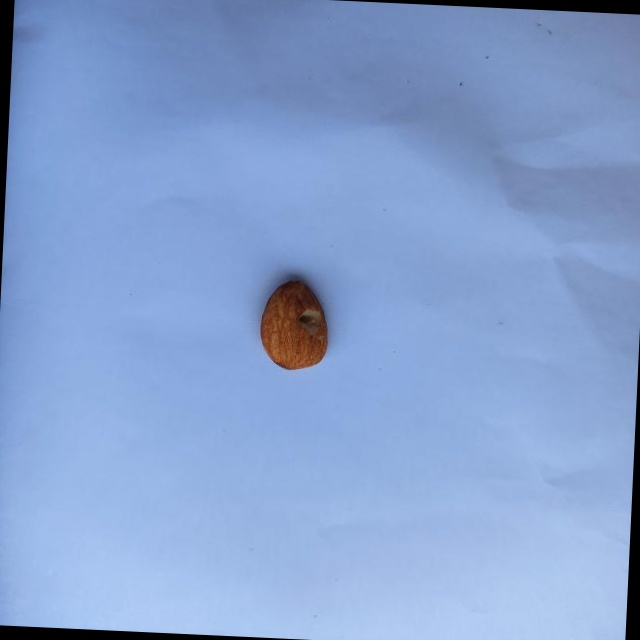grade3: (256, 274, 336, 376)
